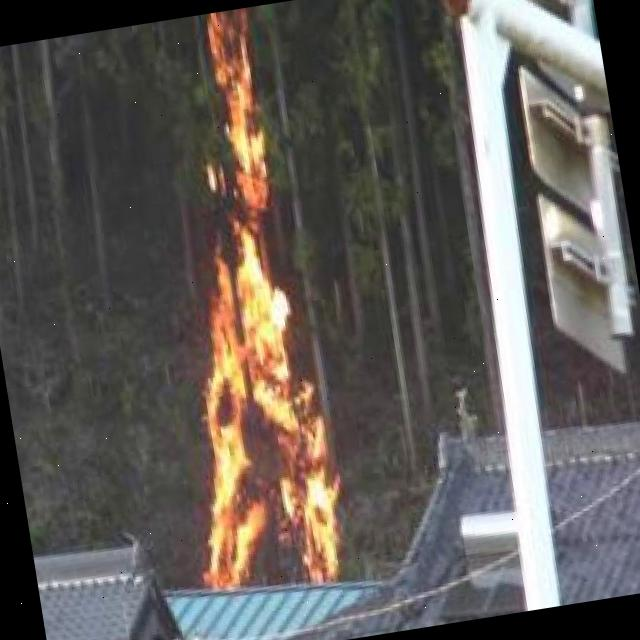fire: (122, 6, 366, 606)
